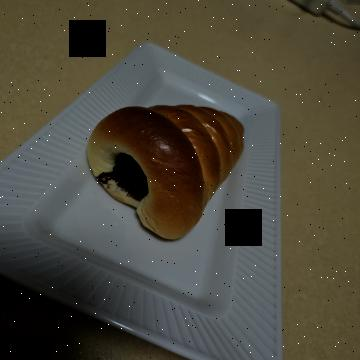cream horn: (81, 111, 271, 288)
